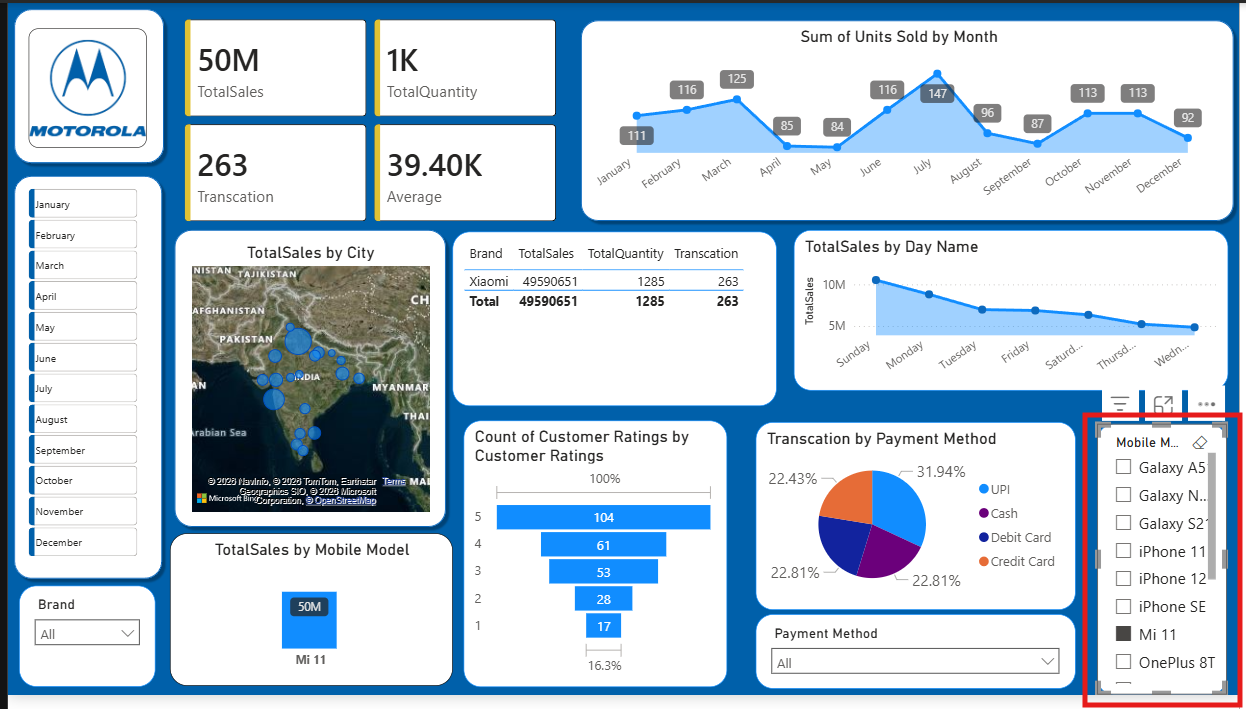

This screenshot's page, from the dashboard's own definition file:
{"tool":"powerbi","page":{"name":"Page 1","canvas":[1280,720],"ordinal":0},"visuals":[{"type":"shape","box":[0,0,168.6,172.9],"z":0},{"type":"image","box":[21.4,25.7,122.9,124.3],"z":1000},{"type":"shape","box":[166.7,230,295,321.7],"z":2000},{"type":"shape","box":[0,173.3,166.7,431.7],"z":3000},{"type":"advancedSlicerVisual","fields":{"Values":["MobileSalesData.Date.Variation.Date Hierarchy.Month"]},"box":[16.7,188.3,136.7,393.3],"z":4000},{"type":"cardVisual","fields":{"Data":["MobileSalesData.TotalSales","MobileSalesData.TotalQuantity","MobileSalesData.Transcation","MobileSalesData.Average"]},"box":[167.1,0,421.4,245.7],"z":5000},{"type":"map","fields":{"Size":["MobileSalesData.TotalSales"],"Category":["MobileSalesData.City"]},"box":[186.7,250,256.7,285],"z":6000},{"type":"shape","box":[588.6,11.4,691.4,221.4],"z":7000},{"type":"lineChart","fields":{"Y":["Sum(MobileSalesData.Units Sold)"],"Category":["MobileSalesData.Date.Variation.Date Hierarchy.Month","MobileSalesData.Date.Variation.Date Hierarchy.Day"]},"box":[600,25,651.7,190],"z":8000},{"type":"clusteredColumnChart","fields":{"Y":["MobileSalesData.TotalSales"],"Category":["MobileSalesData.Mobile Model"]},"box":[168.6,551.4,294.3,158.6],"z":9000},{"type":"pieChart","fields":{"Category":["MobileSalesData.Payment Method"],"Y":["MobileSalesData.Transcation"]},"box":[777.5,435,332.5,195],"z":10000},{"type":"funnel","fields":{"Category":["MobileSalesData.Customer Ratings"],"Y":["CountNonNull(MobileSalesData.Customer Ratings)"]},"box":[474.3,434.3,274.3,277.1],"z":11000},{"type":"tableEx","fields":{"Values":["MobileSalesData.Brand","MobileSalesData.TotalSales","MobileSalesData.TotalQuantity","MobileSalesData.Transcation"]},"box":[462.9,237.1,337.1,181.4],"z":12000},{"type":"lineChart","fields":{"Category":["MobileSalesData.Day Name"],"Y":["MobileSalesData.TotalSales"]},"box":[817.1,235.7,451.4,167.1],"z":13000},{"type":"slicer","fields":{"Values":["MobileSalesData.Mobile Model"]},"box":[1132.5,437.5,135,282.5],"z":14000},{"type":"slicer","fields":{"Values":["MobileSalesData.Payment Method"]},"box":[777.5,635,332.5,77.5],"z":15000},{"type":"slicer","fields":{"Values":["MobileSalesData.Brand"]},"box":[11.7,605,141.7,105],"z":16000}]}

Visuals, with their boxes in screenshot pixels (x1, y1, x2, y2):
shape: crop(10, 3, 172, 169)
image: crop(30, 28, 148, 147)
shape: crop(170, 224, 453, 533)
shape: crop(10, 170, 170, 584)
advancedSlicerVisual - MobileSalesData.Date.Variation.Date Hierarchy.Month: crop(26, 184, 157, 562)
cardVisual - MobileSalesData.TotalSales x MobileSalesData.TotalQuantity: crop(170, 3, 575, 239)
map - MobileSalesData.TotalSales x MobileSalesData.City: crop(189, 243, 435, 517)
shape: crop(575, 14, 1239, 227)
lineChart - Sum(MobileSalesData.Units Sold) x MobileSalesData.Date.Variation.Date Hierarchy.Month: crop(586, 27, 1211, 210)
clusteredColumnChart - MobileSalesData.TotalSales x MobileSalesData.Mobile Model: crop(172, 533, 454, 685)
pieChart - MobileSalesData.Payment Method x MobileSalesData.Transcation: crop(756, 421, 1075, 608)
funnel - MobileSalesData.Customer Ratings x CountNonNull(MobileSalesData.Customer Ratings): crop(465, 420, 728, 686)
tableEx - MobileSalesData.Brand x MobileSalesData.TotalSales: crop(454, 231, 778, 405)
lineChart - MobileSalesData.Day Name x MobileSalesData.TotalSales: crop(794, 230, 1227, 390)
slicer - MobileSalesData.Mobile Model: crop(1097, 423, 1227, 694)
slicer - MobileSalesData.Payment Method: crop(756, 613, 1075, 687)
slicer - MobileSalesData.Brand: crop(21, 584, 157, 685)
